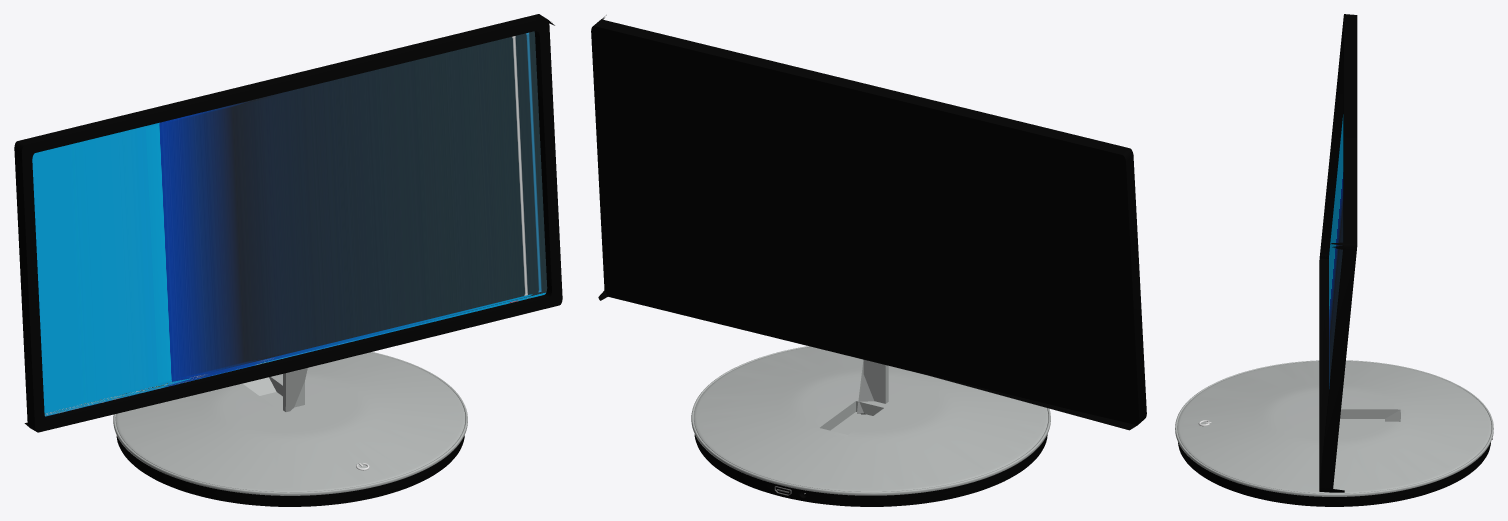
Rendered from computer.glb.
3 views of the same model, side by side, from view 1: azimuth 30°, elevation 25°; view 2: azimuth 150°, elevation 25°; view 3: azimuth 270°, elevation 25° (orthographic). The views are drawn at different scales.
Size of the model in its own units: 0.7197 by 0.4532 by 0.419.
Materials: 5 (1 with a texture image).
